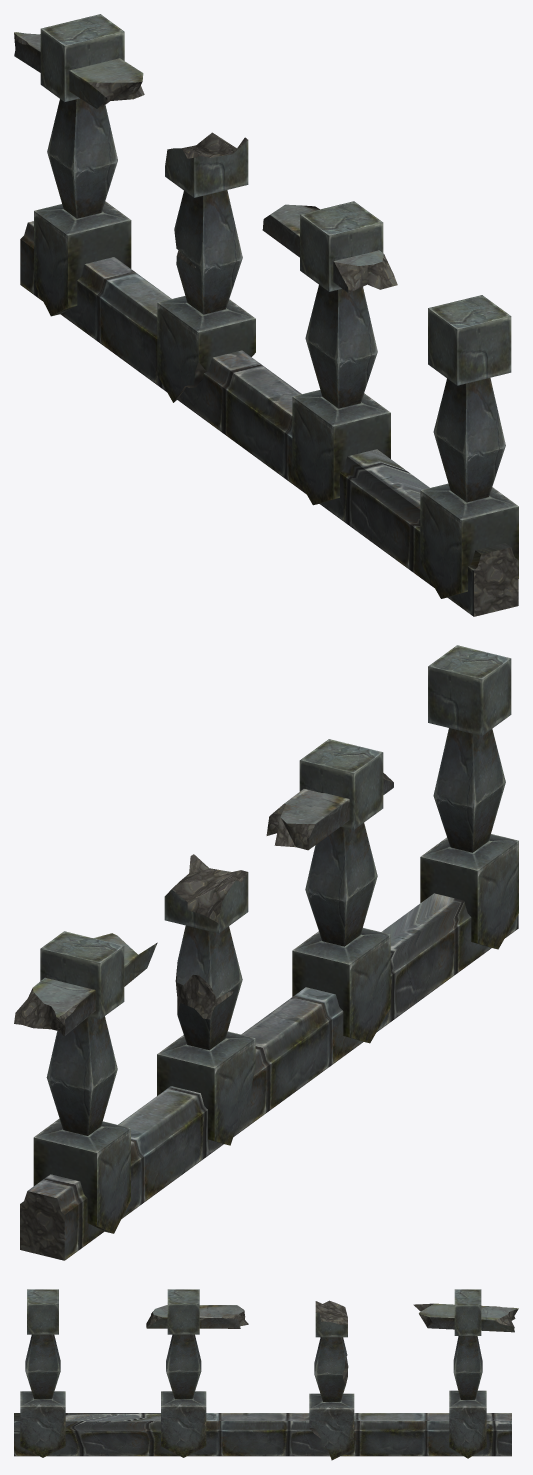
File: F_zhangaimen.fbx
3 views of the same model, one above another, from view 1: azimuth 30°, elevation 25°; view 2: azimuth 150°, elevation 25°; view 3: azimuth 270°, elevation 25° (orthographic). The views are drawn at different scales.
Parts seen in each view (by area): view 1: F_zhangaimen; view 2: F_zhangaimen; view 3: F_zhangaimen.
Part boxes in pixels (x1,y1,x2,y2): F_zhangaimen: (14,14,518,616); F_zhangaimen: (14,645,518,1260); F_zhangaimen: (14,1289,518,1460).
Size of the model in its own units: 31.04 by 133 by 390.
